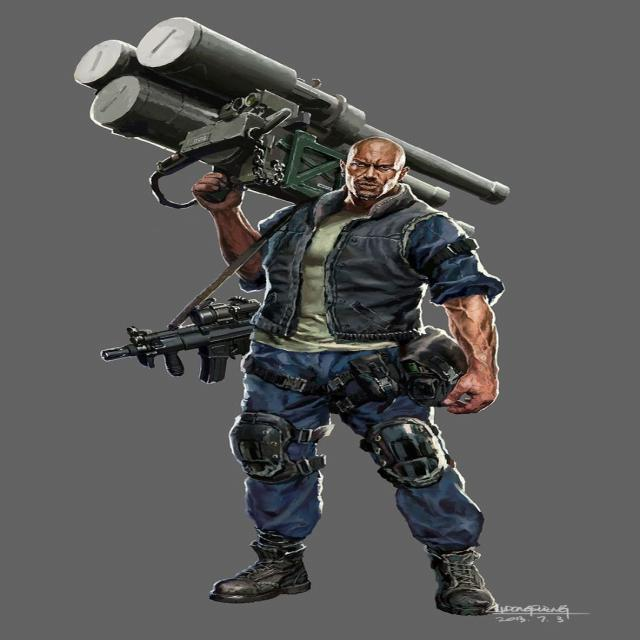rifle: (90, 294, 257, 379)
